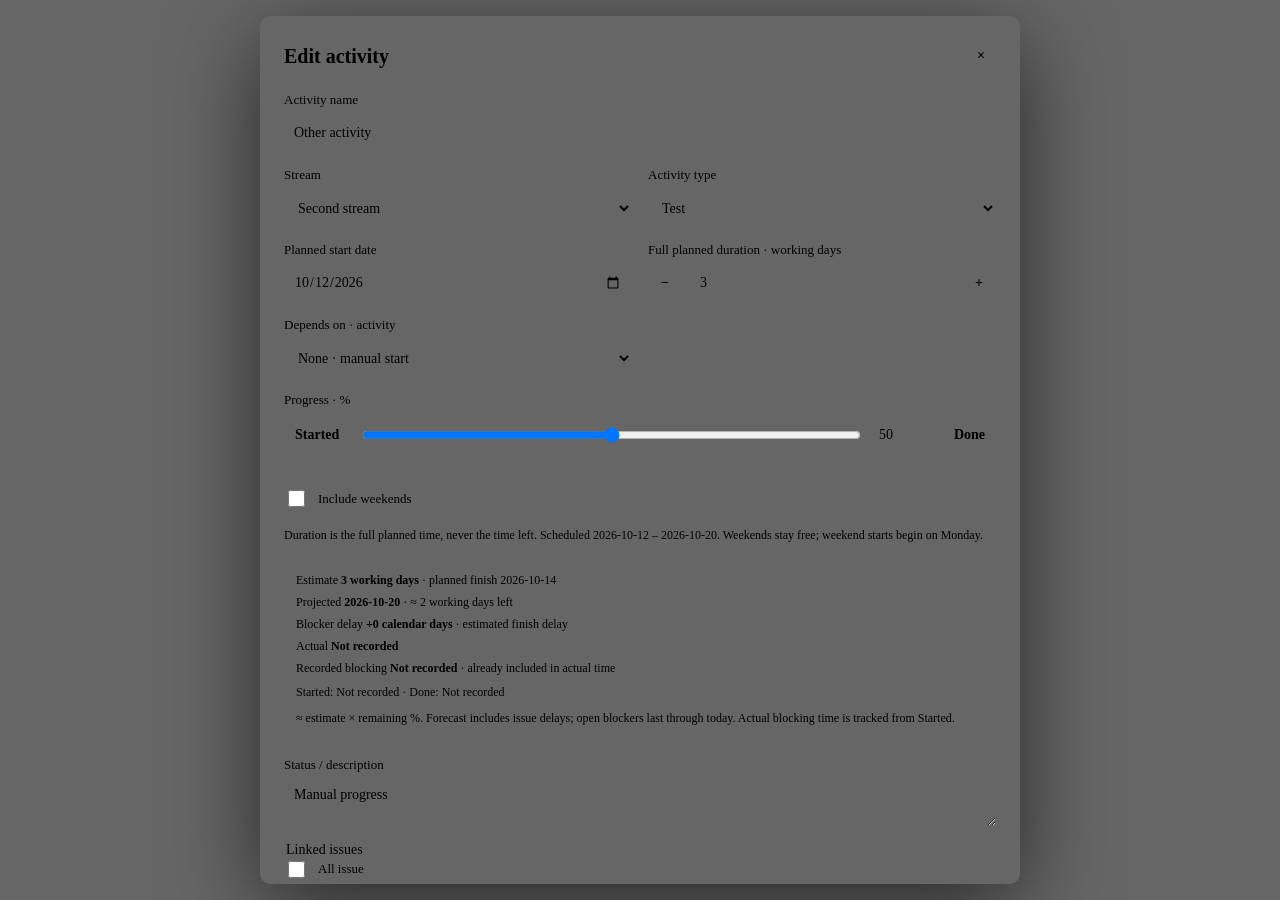
Test: activity timing with pending issue links › previews an added link that the persisted issue scope does not yet include
expect the text "Projected 2026-10-20 · ≈ 2 working days left" is shown: met, box [296, 595, 513, 609]
Click the checkbox labelled "All issue". click: (296, 869)
box: [288, 861, 305, 878]
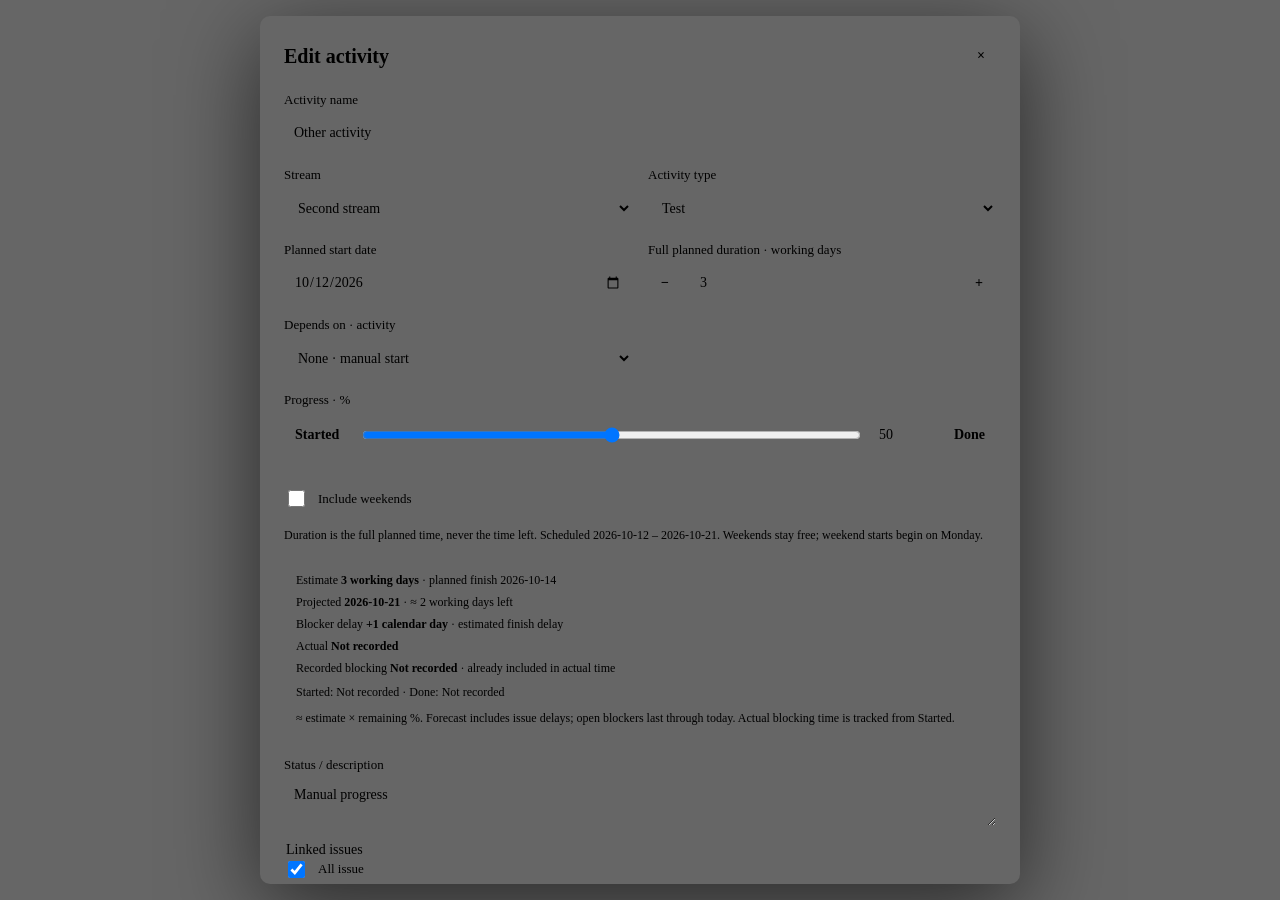
expect the text "Projected 2026-10-21 · ≈ 2 working days left" is shown: met, box [296, 595, 513, 609]
expect the element with id "activity-blocker-delay" shows "+1 calendar day": met, box [366, 617, 448, 631]
